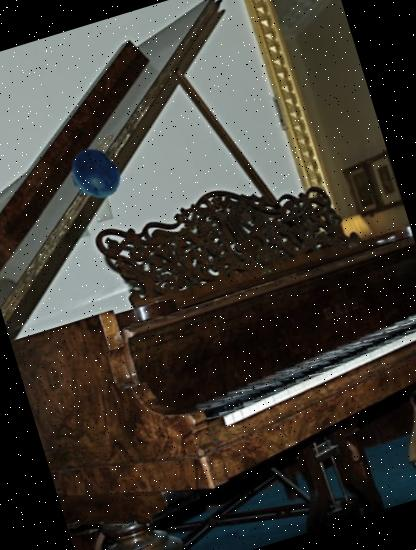Huckleberry: (61, 141, 128, 208)
